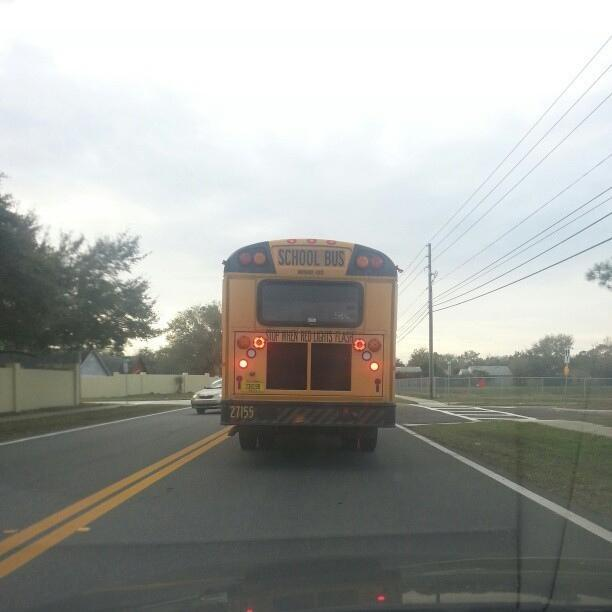bus: (214, 240, 396, 460)
car: (192, 380, 223, 414)
